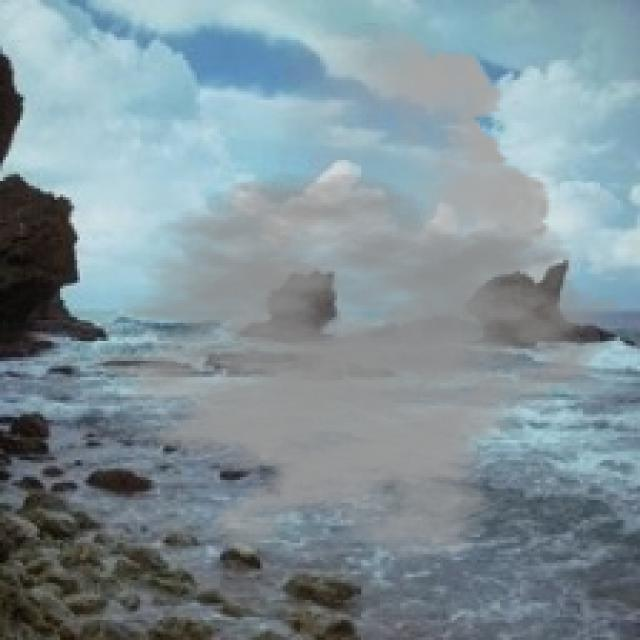smoke: (54, 23, 623, 566)
